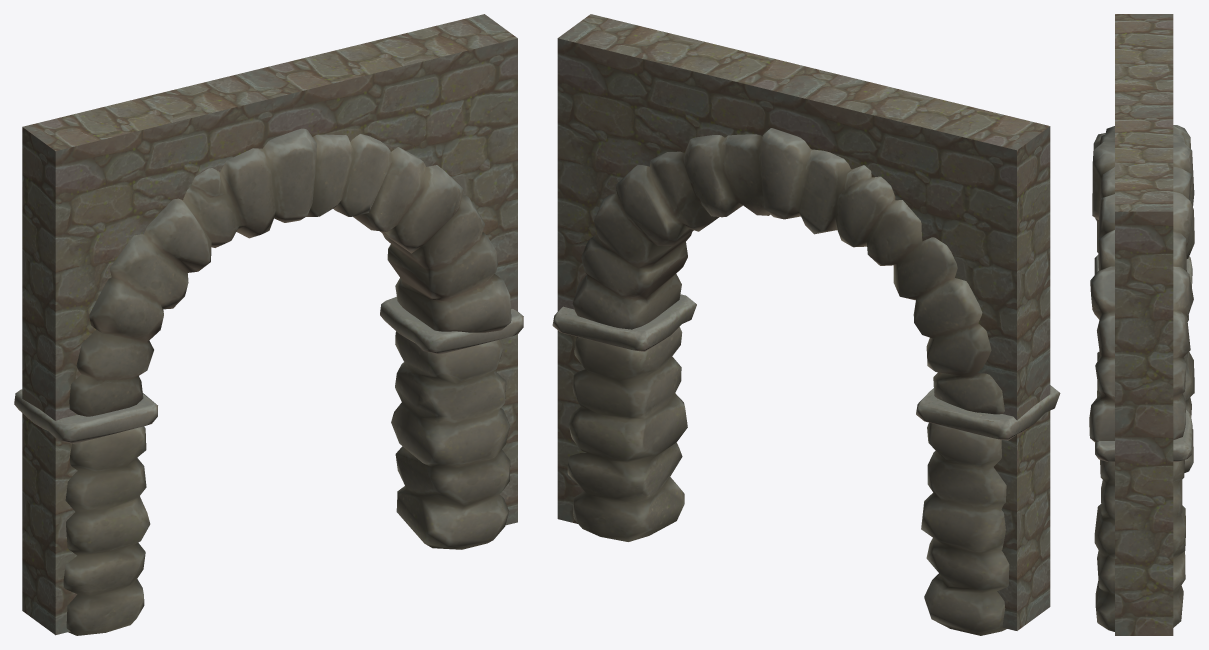
File: SM_FW01_Ruins_Int_Doorway_A_4x4_01.fbx
3 renders of one model, left to right at view 1: azimuth 30°, elevation 25°; view 2: azimuth 150°, elevation 25°; view 3: azimuth 270°, elevation 25°, orthographic. The views are drawn at different scales.
Visible parts, largest first — view 1: SM_FW01_Ruins_Int_Doorway_A_4x4_01_LOD0, SM_FW01_Ruins_Int_Doorway_A_4x4_01; view 2: SM_FW01_Ruins_Int_Doorway_A_4x4_01, SM_FW01_Ruins_Int_Doorway_A_4x4_01_LOD0; view 3: SM_FW01_Ruins_Int_Doorway_A_4x4_01, SM_FW01_Ruins_Int_Doorway_A_4x4_01_LOD0.
Part boxes in pixels (x1,y1,x2,y2): SM_FW01_Ruins_Int_Doorway_A_4x4_01_LOD0: (14, 128, 523, 635); SM_FW01_Ruins_Int_Doorway_A_4x4_01: (22, 14, 517, 635); SM_FW01_Ruins_Int_Doorway_A_4x4_01: (557, 14, 1050, 630); SM_FW01_Ruins_Int_Doorway_A_4x4_01_LOD0: (552, 128, 1060, 635); SM_FW01_Ruins_Int_Doorway_A_4x4_01: (1115, 14, 1173, 635); SM_FW01_Ruins_Int_Doorway_A_4x4_01_LOD0: (1089, 125, 1194, 631).
Size of what is drawn, in the model's own units: 4.03 by 4.08 by 0.9026.
